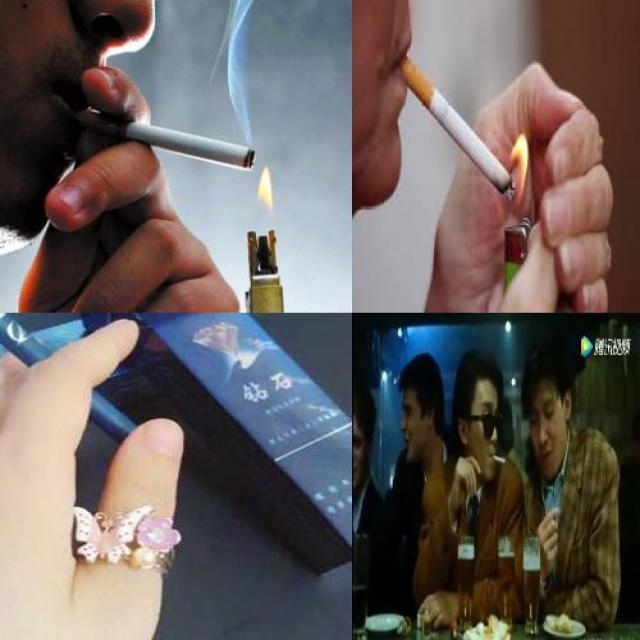cigarette: (0, 313, 187, 453), (398, 55, 516, 199), (76, 109, 257, 171), (492, 453, 506, 466)
